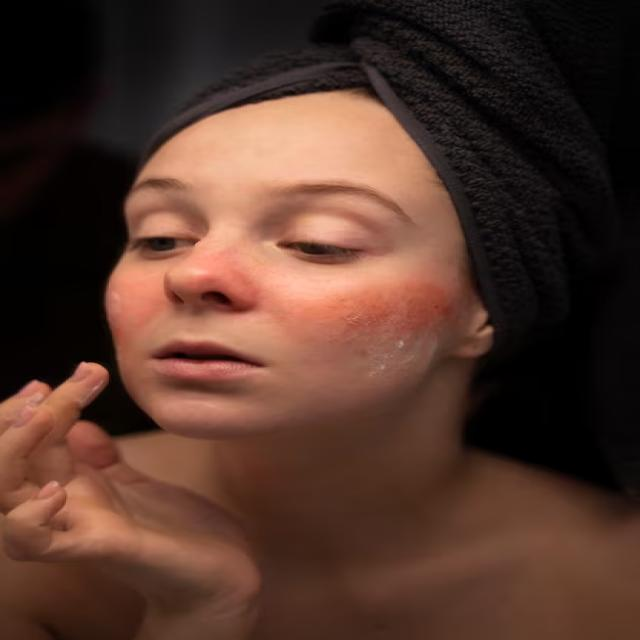flakiness: (342, 315, 416, 378)
